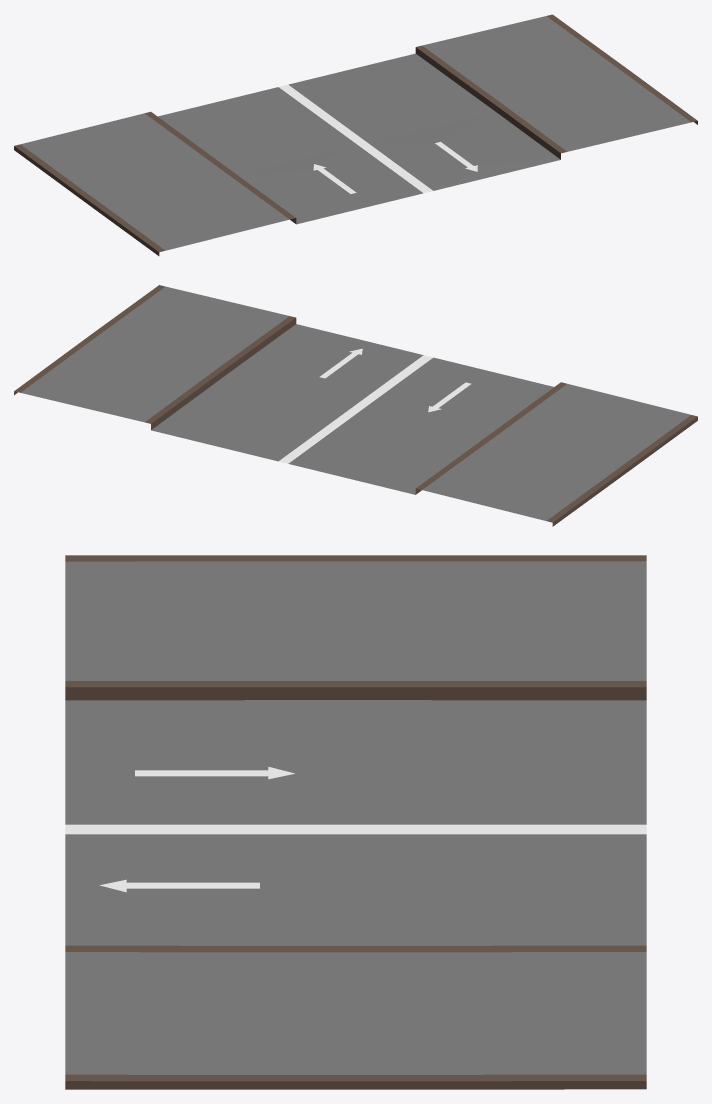
Rendered from SM_Road_P63.fbx.
3 views of the same model, one above another, from view 1: azimuth 30°, elevation 25°; view 2: azimuth 150°, elevation 25°; view 3: azimuth 270°, elevation 25° (orthographic). The views are drawn at different scales.
Visible parts, largest first — view 1: SM_Road_P63; view 2: SM_Road_P63; view 3: SM_Road_P63.
Part boxes in pixels (x1=…): SM_Road_P63: x1=14, y1=14, x2=697, y2=255; SM_Road_P63: x1=14, y1=285, x2=697, y2=526; SM_Road_P63: x1=65, y1=555, x2=646, y2=1089.
Size of the model in its own units: 2487 by 28.46 by 1161.
